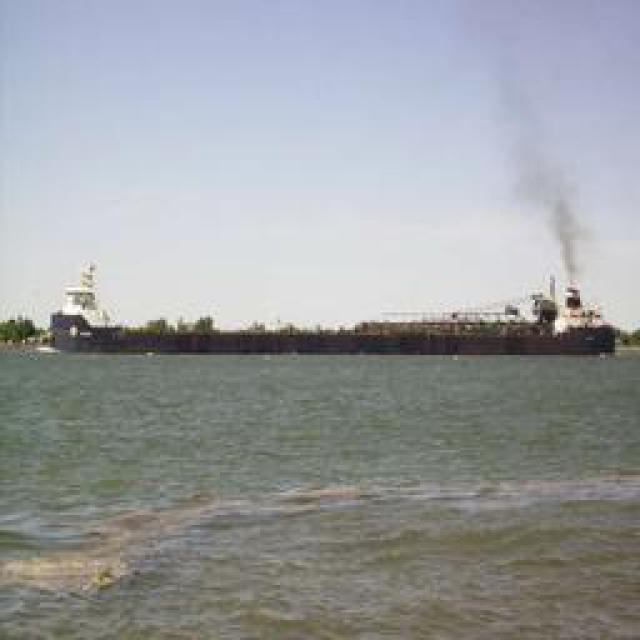Ship: (49, 280, 612, 360)
